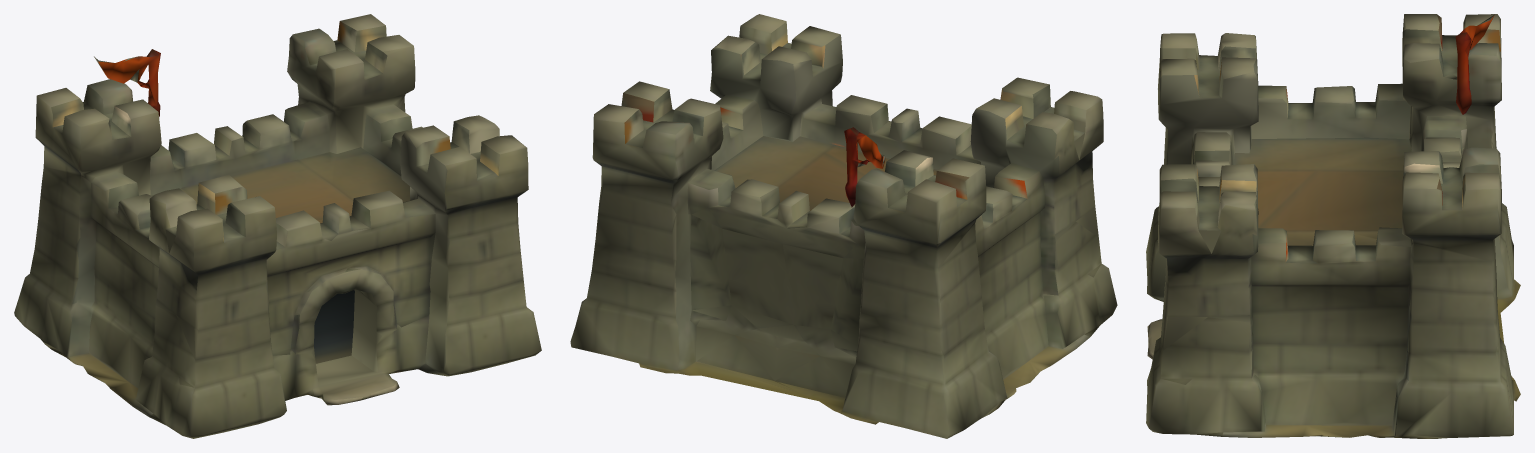
File: barracks.glb
3 renders of one model, left to right at view 1: azimuth 30°, elevation 25°; view 2: azimuth 150°, elevation 25°; view 3: azimuth 270°, elevation 25°, orthographic. The views are drawn at different scales.
Visible parts, largest first — view 1: tmpc6qk1l82.ply; view 2: tmpc6qk1l82.ply; view 3: tmpc6qk1l82.ply.
Boxes of the visible parts, x1,y1,x2,y2 form: tmpc6qk1l82.ply: [14, 14, 541, 438]; tmpc6qk1l82.ply: [570, 14, 1117, 438]; tmpc6qk1l82.ply: [1146, 14, 1520, 438].
Size of the model in its own units: 2 by 1.31 by 1.61.
1 material, 1 textured.
